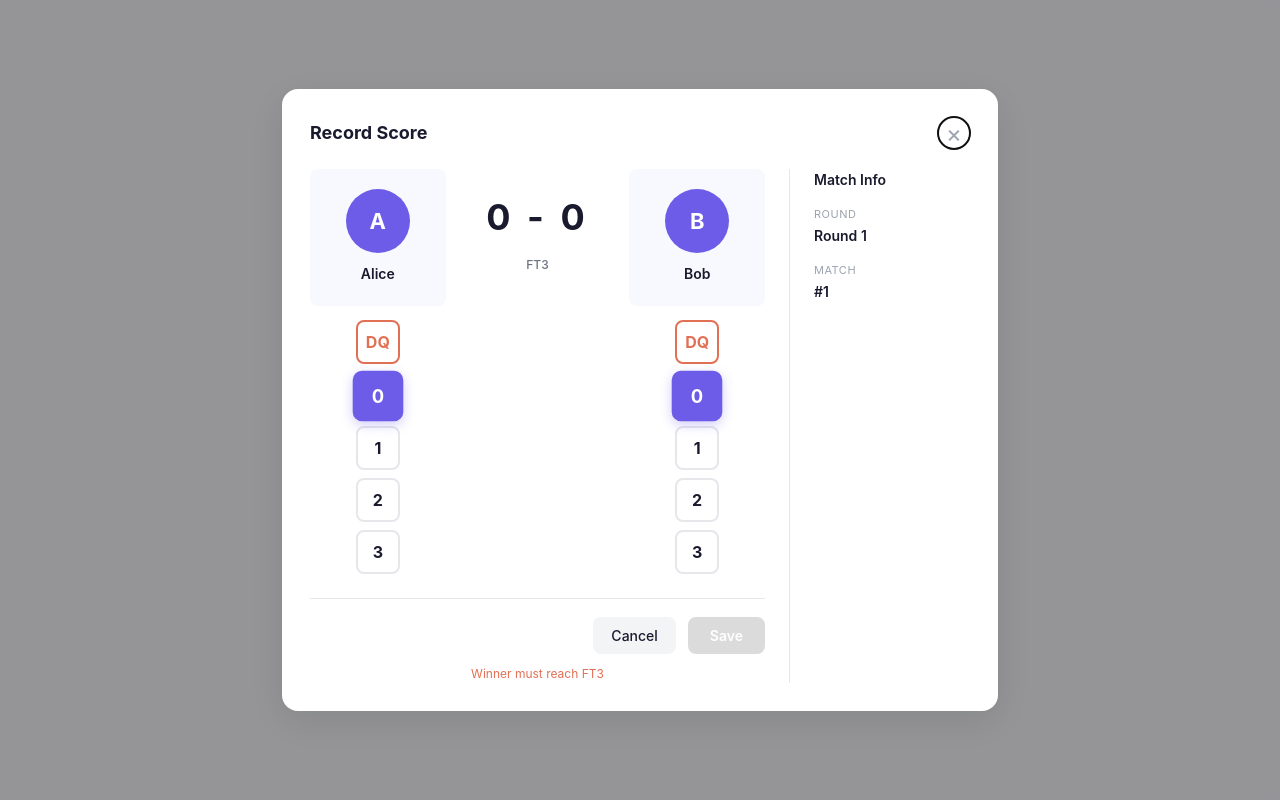
Test: MatchScoreModal › enables save when valid score is entered
The image size is (1280, 800).
Click the button "3" below "Alice" at (378, 552), box [356,530,400,574]
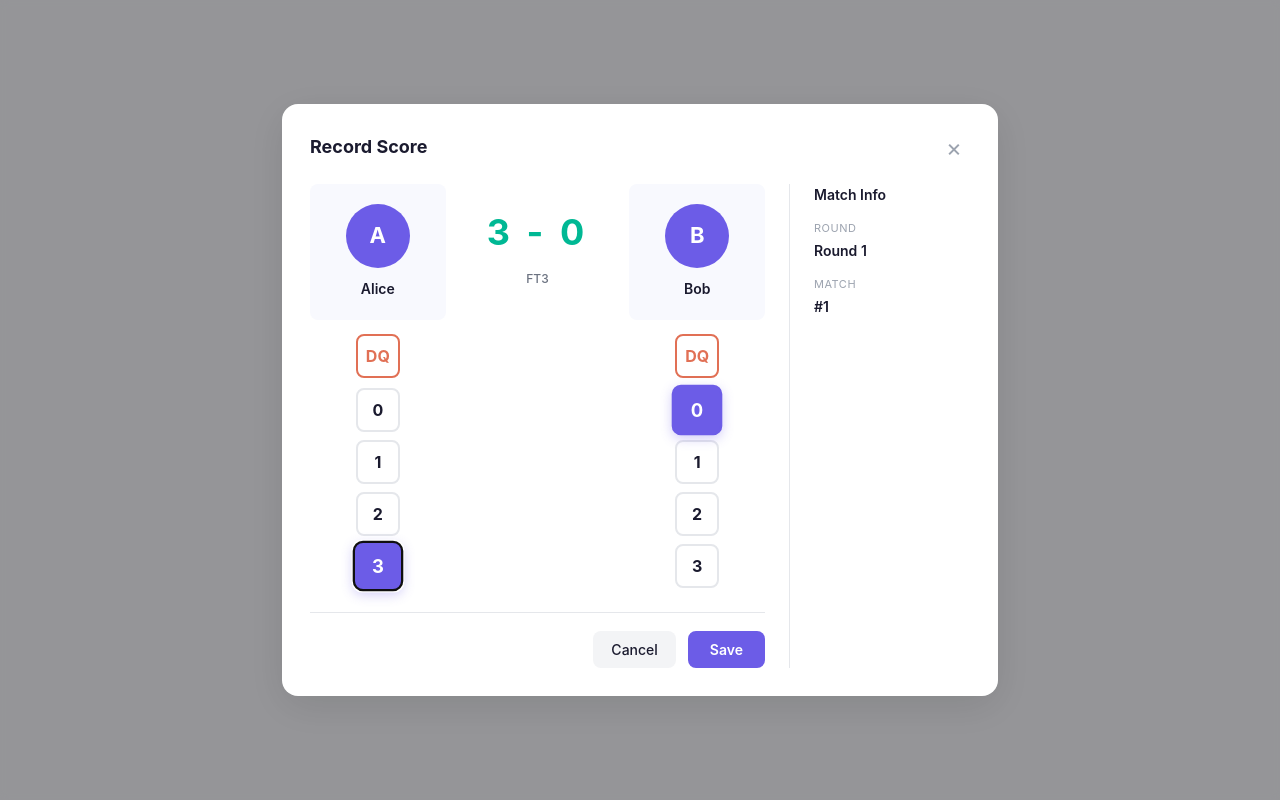
Click the button "3" below "Bob" at (697, 566), box [675,544,719,588]
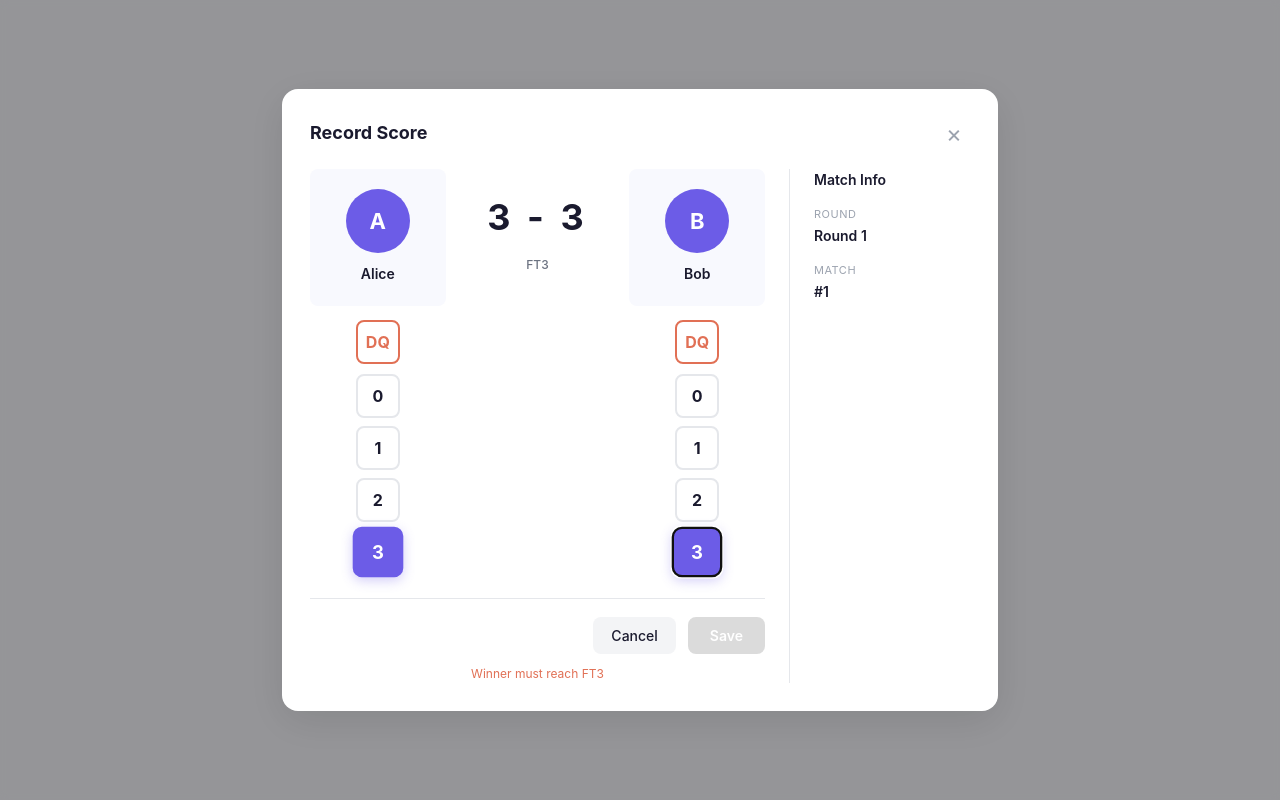
Click the button "0" below "Bob" at (697, 396), box [675,374,719,418]
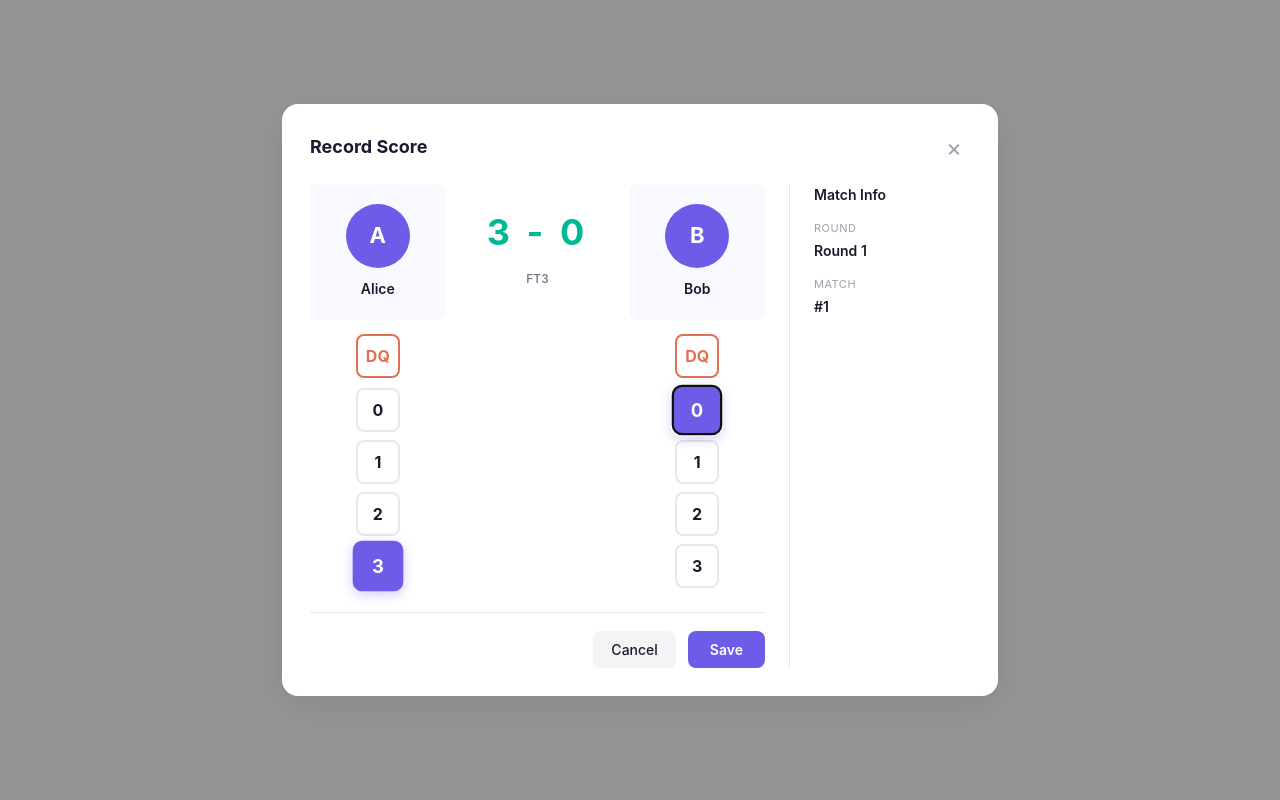
Expected: the button "Save" is enabled, [688,631,765,668]
